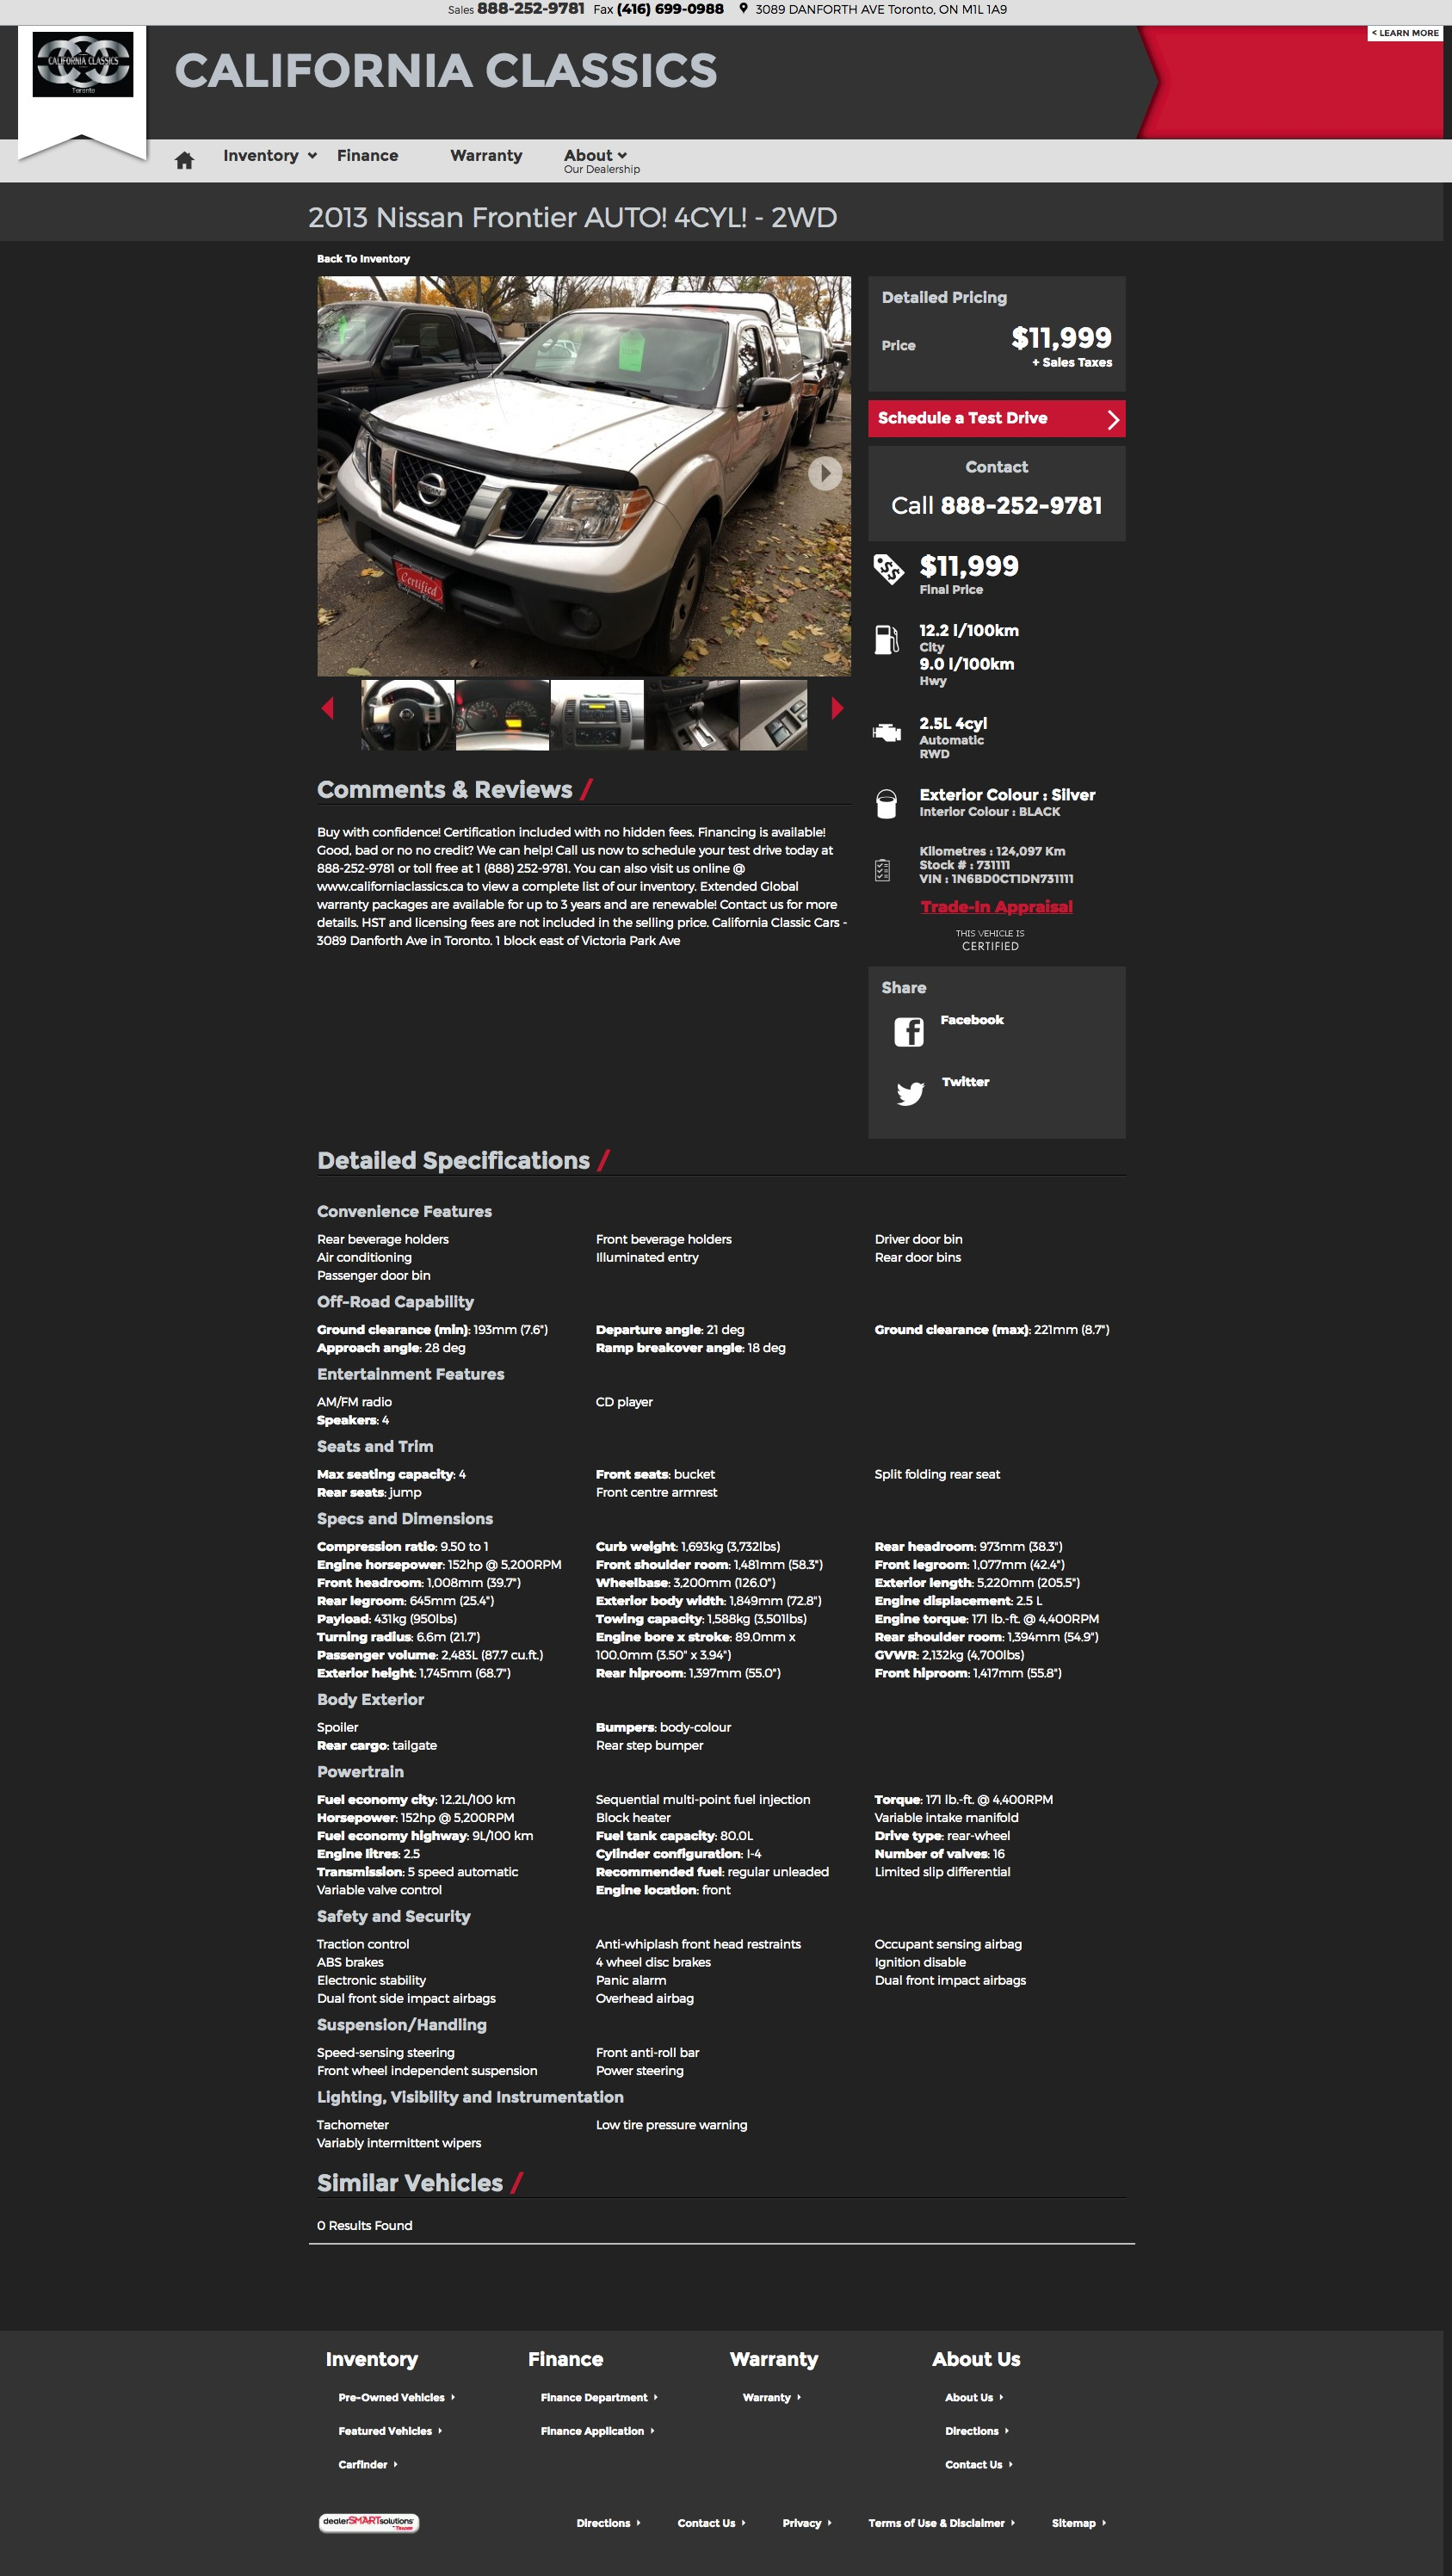car: (831, 697, 844, 720)
